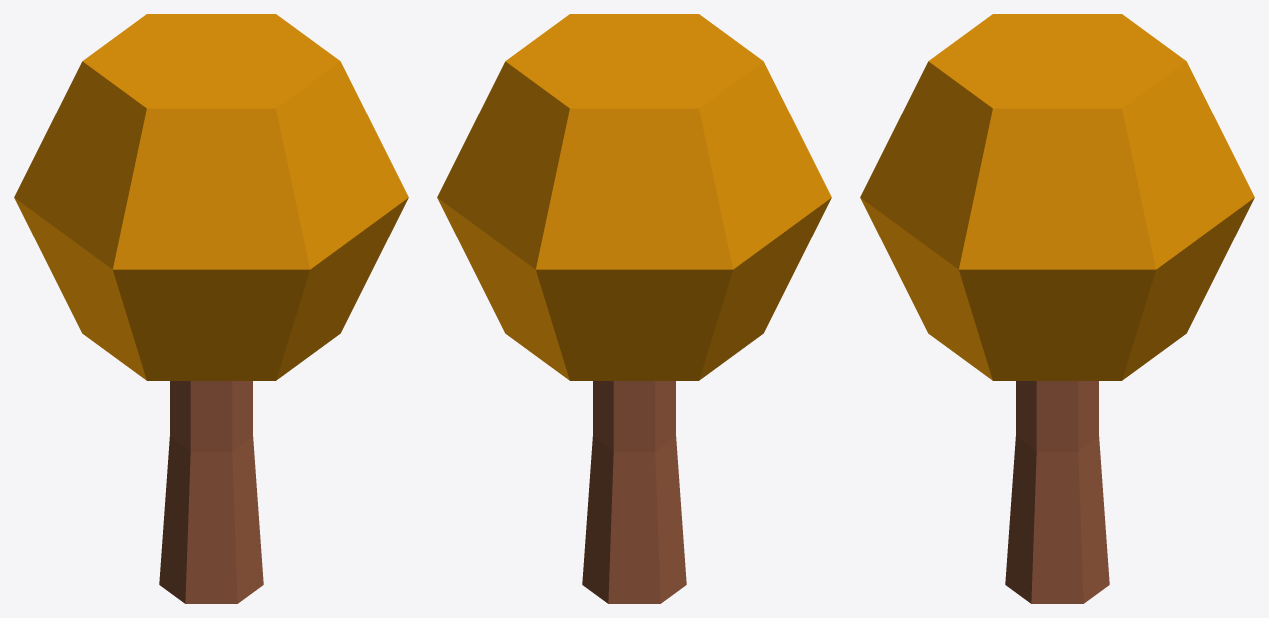
File: tree_a_orange.fbx
The picture shows the model from 3 angles, left to right: view 1: azimuth 30°, elevation 25°; view 2: azimuth 150°, elevation 25°; view 3: azimuth 270°, elevation 25°; orthographic projection.
Visible parts, largest first — view 1: treetop_a_orange, trunk_a_orange; view 2: treetop_a_orange, trunk_a_orange; view 3: treetop_a_orange, trunk_a_orange.
Boxes of the visible parts, left/top/right/bottom form: treetop_a_orange: left=14, top=14, right=408, bottom=380; trunk_a_orange: left=159, top=381, right=263, bottom=603; treetop_a_orange: left=437, top=14, right=831, bottom=380; trunk_a_orange: left=582, top=381, right=686, bottom=603; treetop_a_orange: left=860, top=14, right=1254, bottom=380; trunk_a_orange: left=1005, top=381, right=1109, bottom=603.
Size of the model in its own units: 655 by 1106 by 756.
